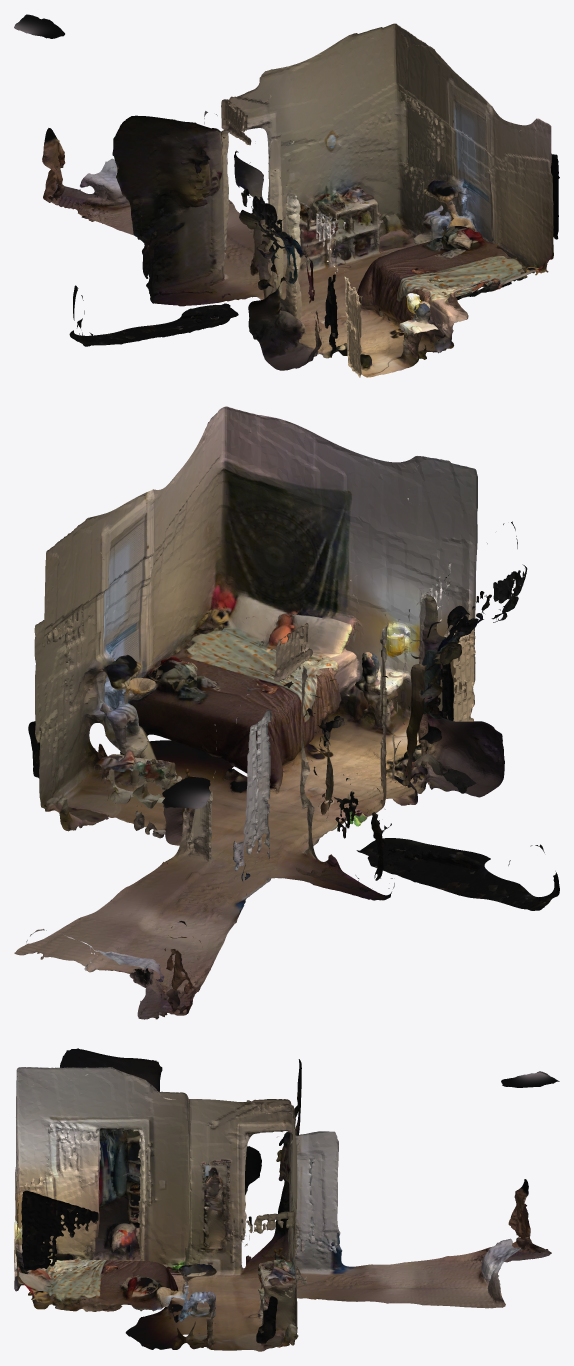
3 renders of one model, top to bottom at view 1: azimuth 30°, elevation 25°; view 2: azimuth 150°, elevation 25°; view 3: azimuth 270°, elevation 25°, orthographic. The views are drawn at different scales.
Size of the model in its own units: 5.65 by 3.17 by 7.46.
Materials: 2 (2 with a texture image).
